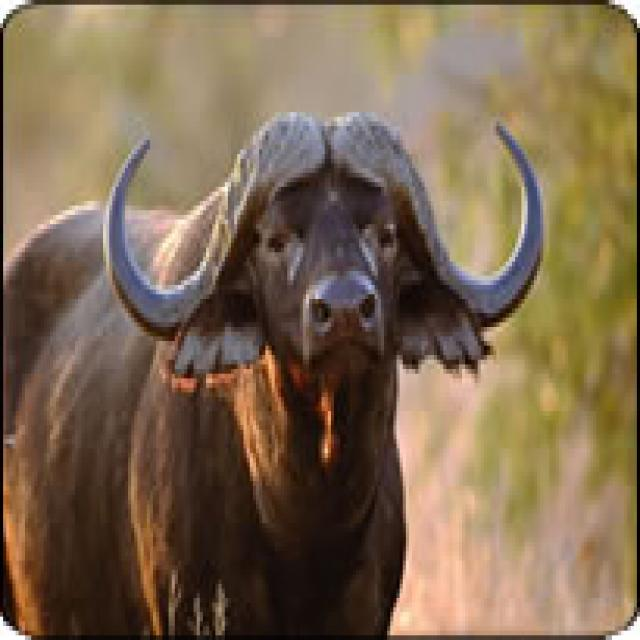buffalo: (36, 37, 545, 630)
